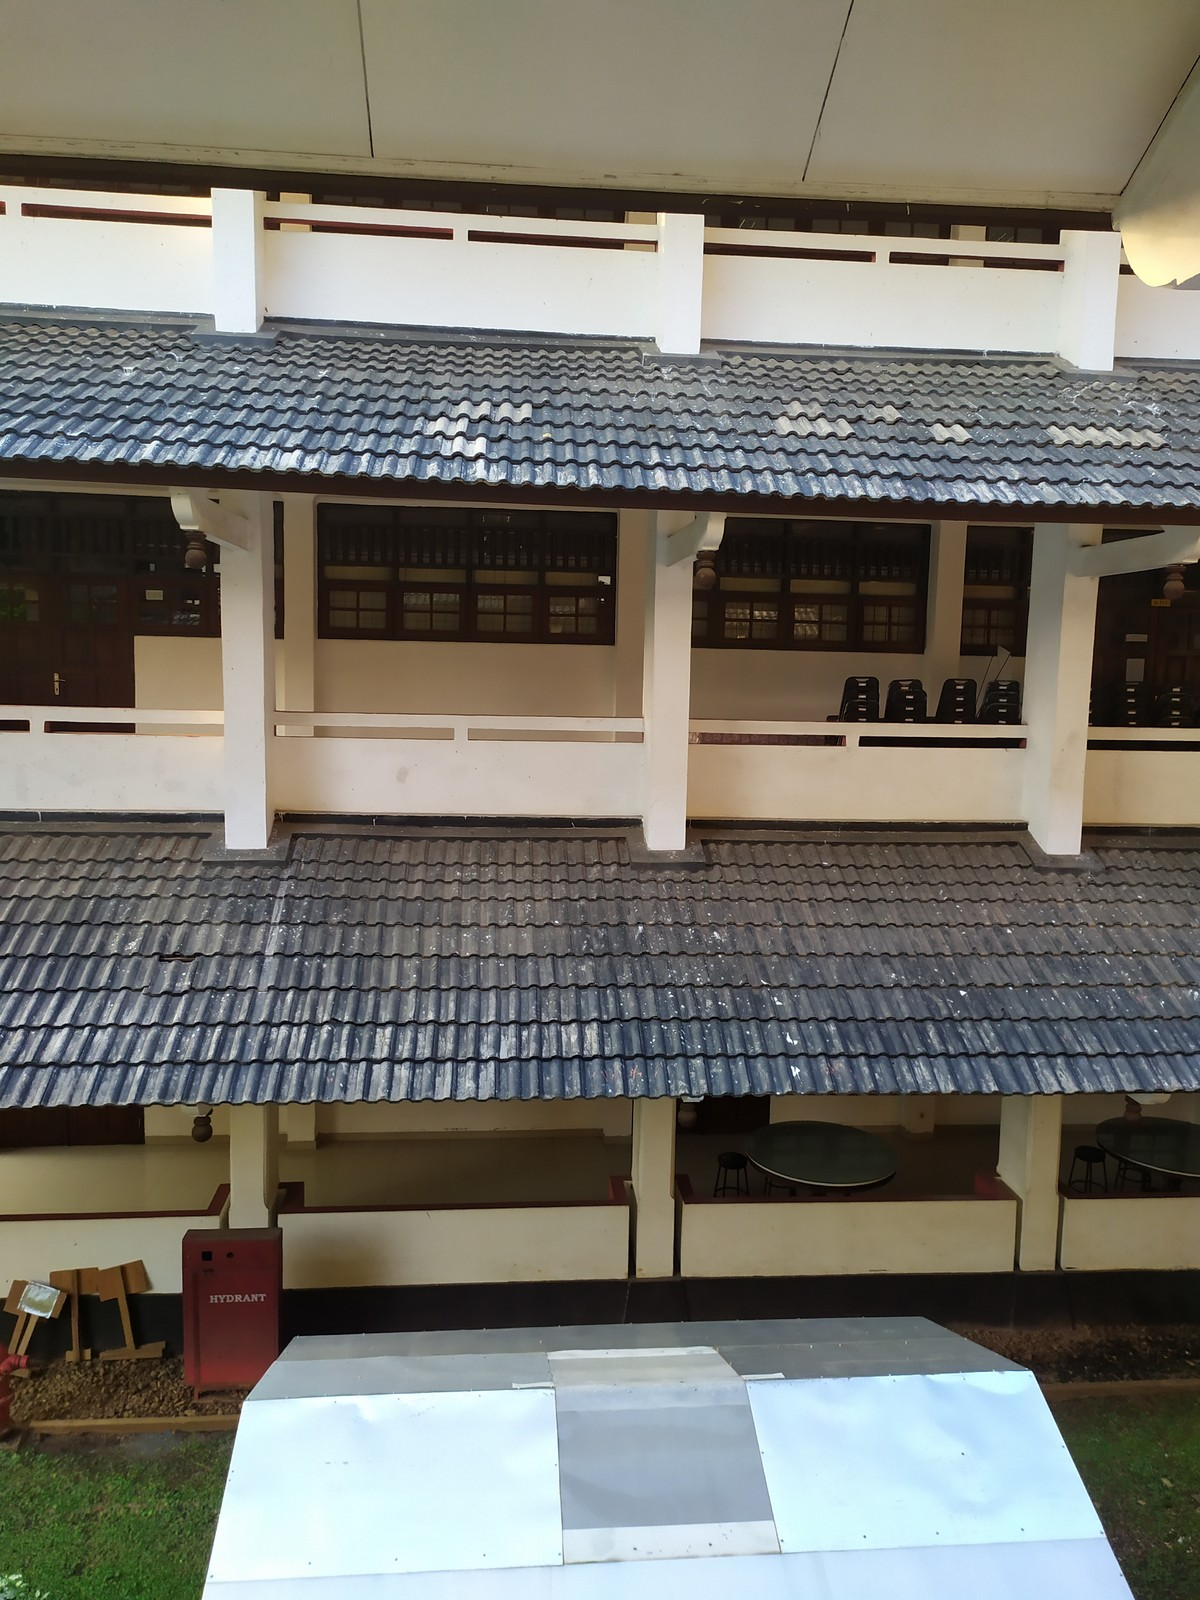concrete column: (1020, 527, 1094, 860), (634, 517, 705, 850), (221, 501, 286, 857)
